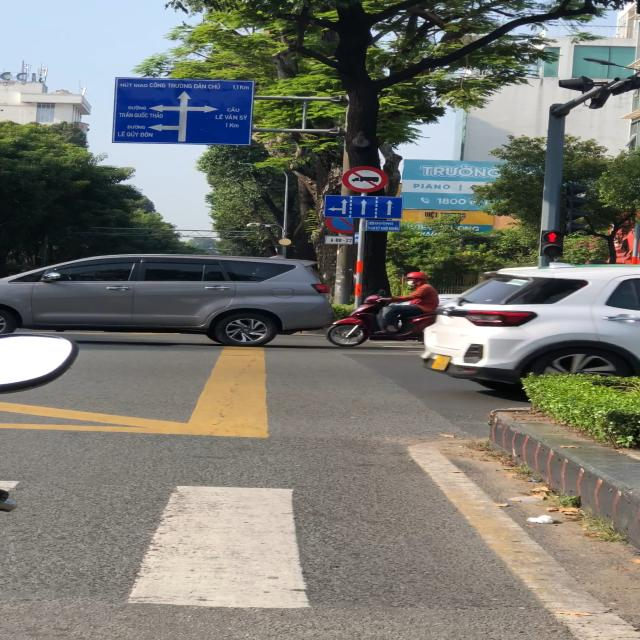Bien bao cam xe so-mi ro-mooc: (338, 165, 388, 193)
